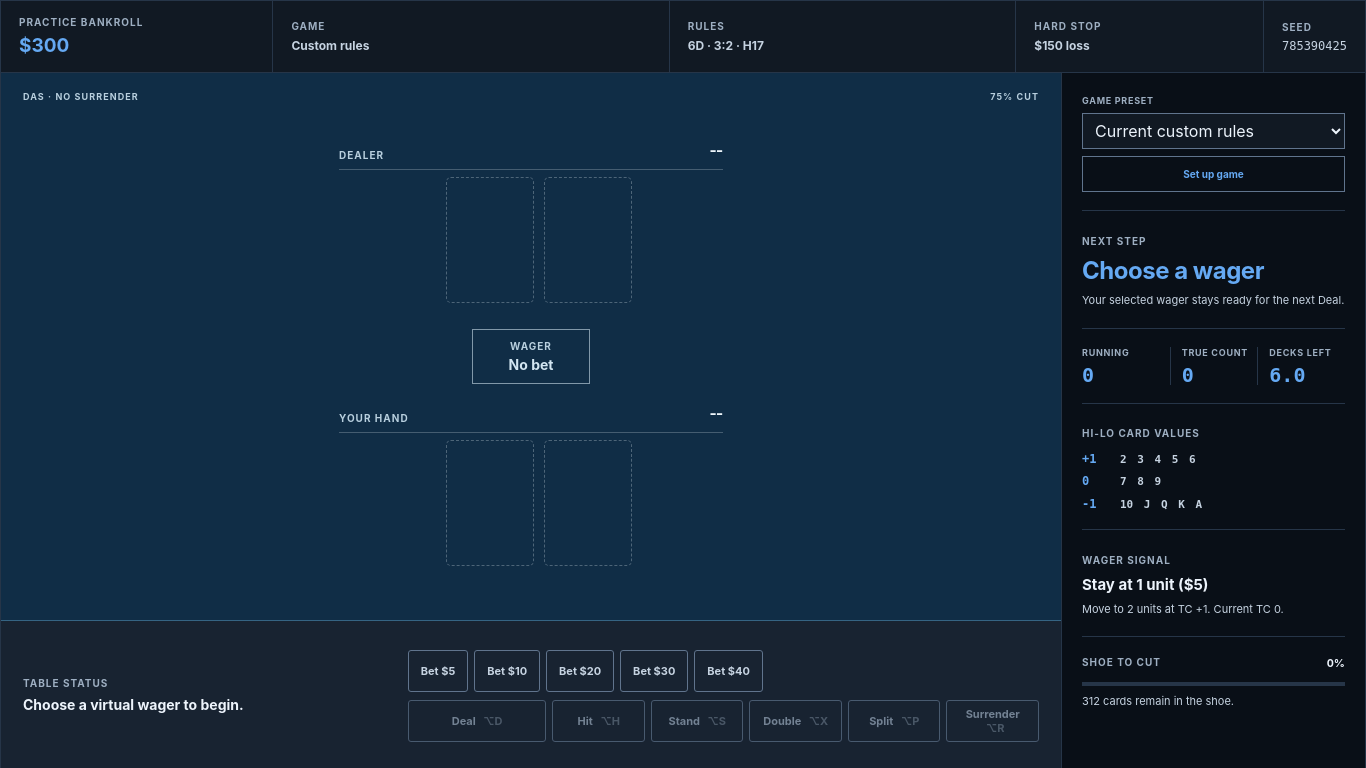
Test case: BlackjackTable › supports the documented deal and stand keyboard shortcuts
Click the button "Bet $5".
click(438, 671)  # box [408, 650, 468, 692]
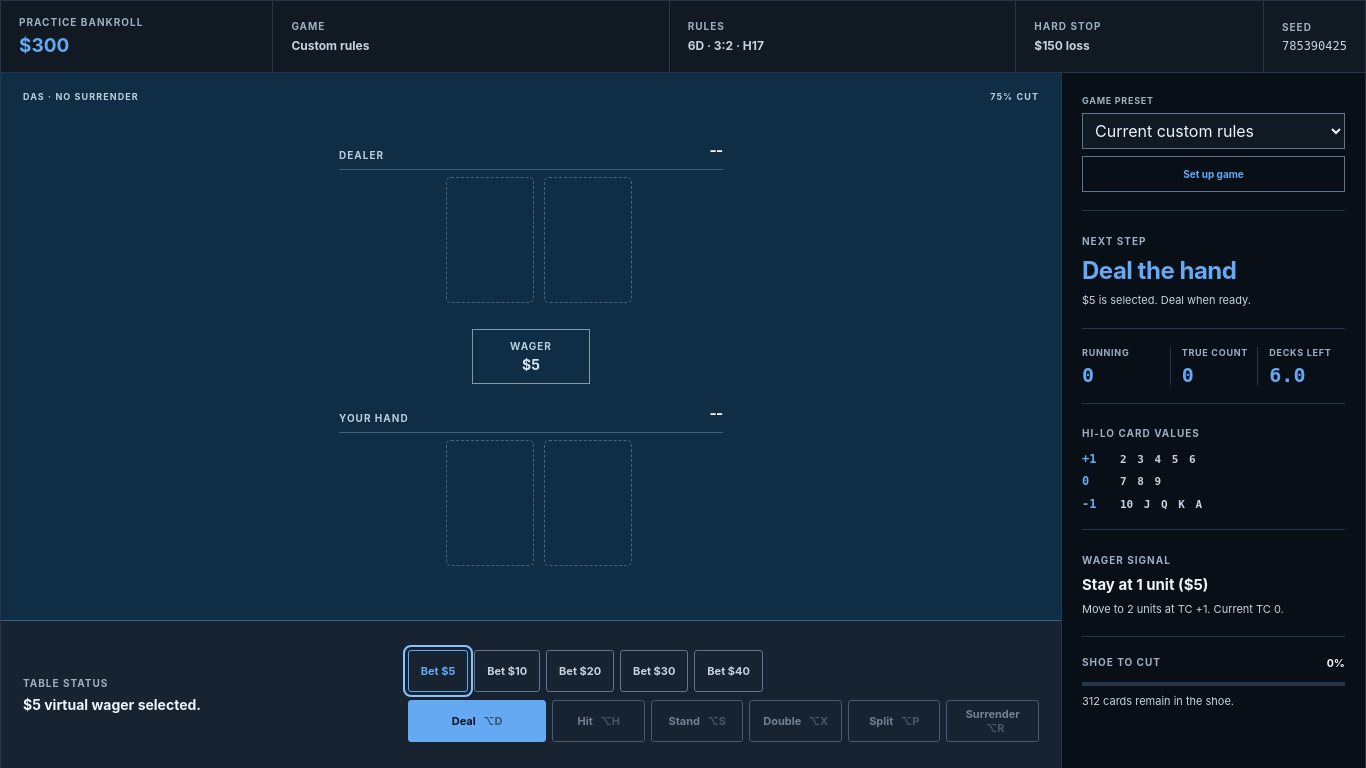
Type keys "{Alt>}d{/Alt}"
(page scrolled)
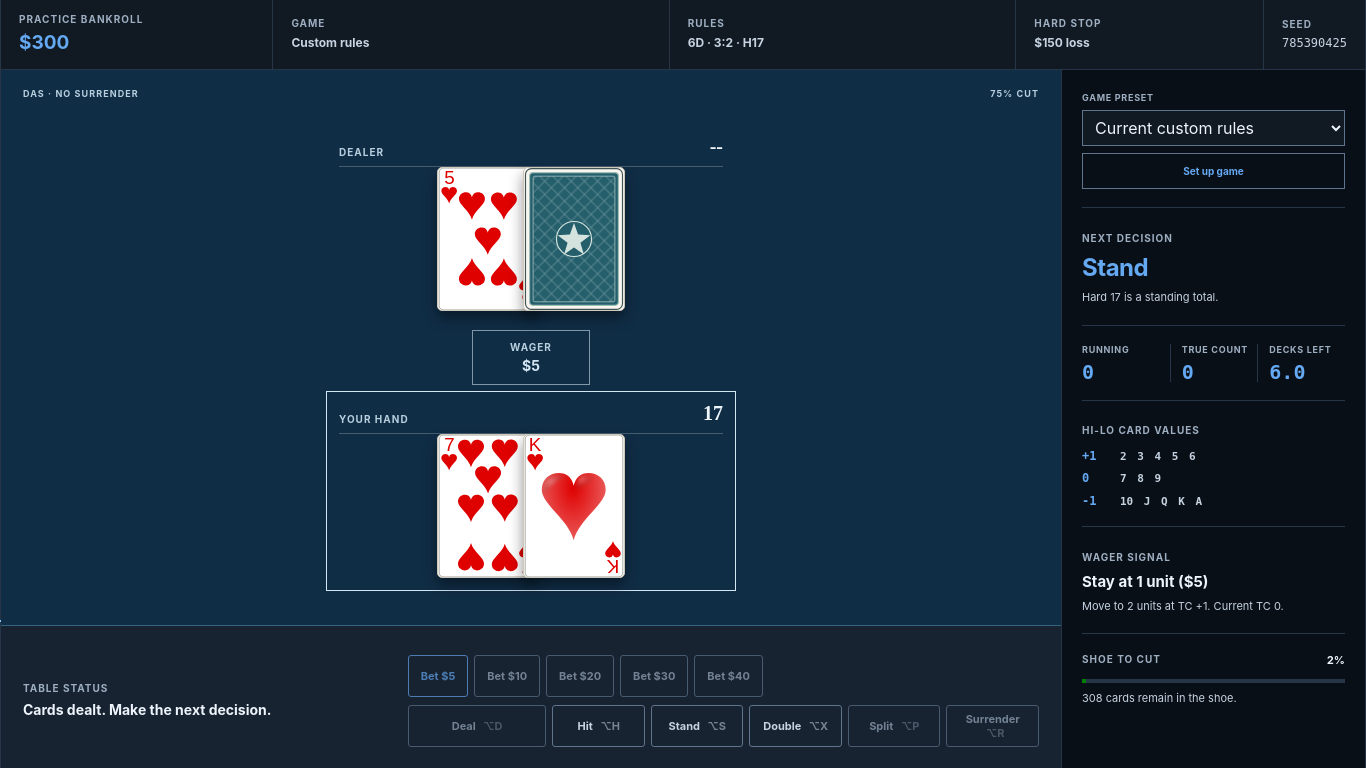
Expected: the number of elements with test id "player-card" is 2, [437, 434, 539, 578]; [523, 434, 625, 578]
Type keys "{Alt>}s{/Alt}"
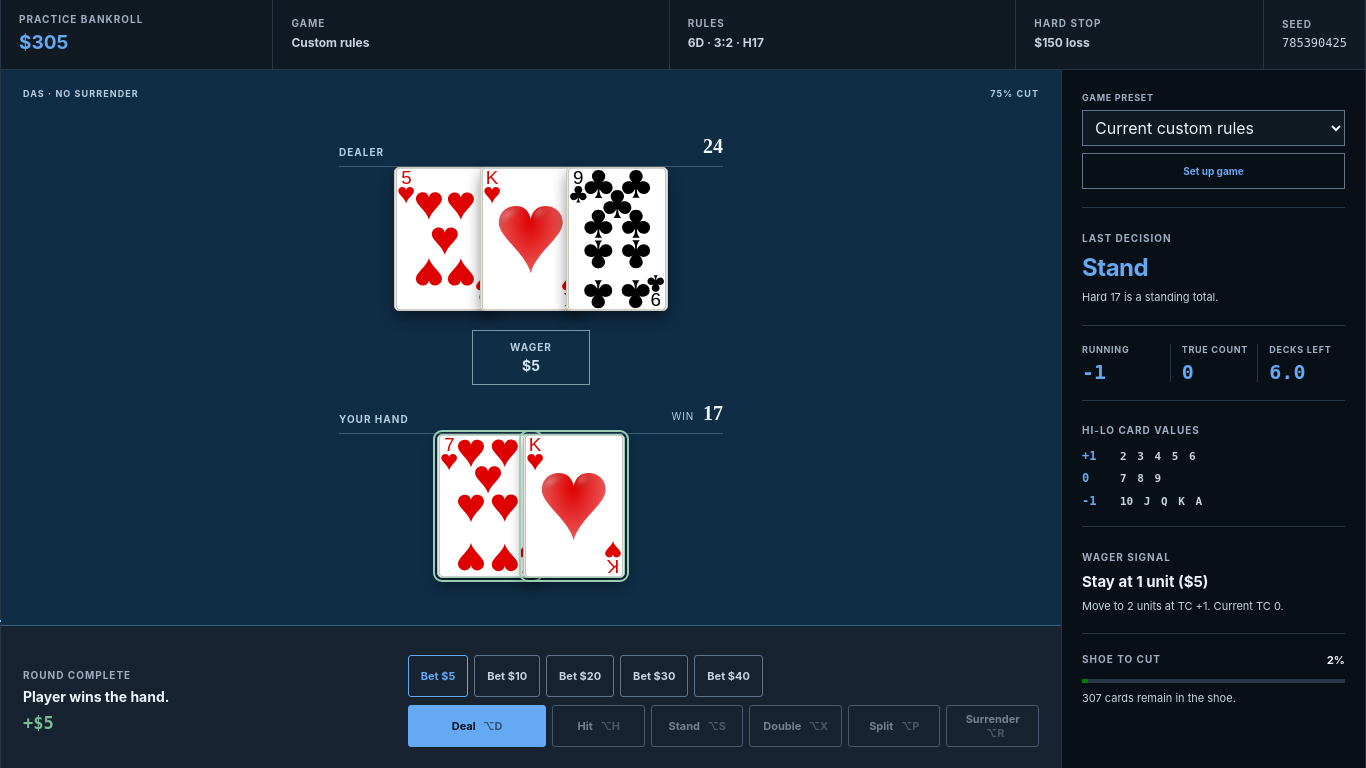
Expected: the text "Round complete" is shown, [23, 668, 131, 680]
